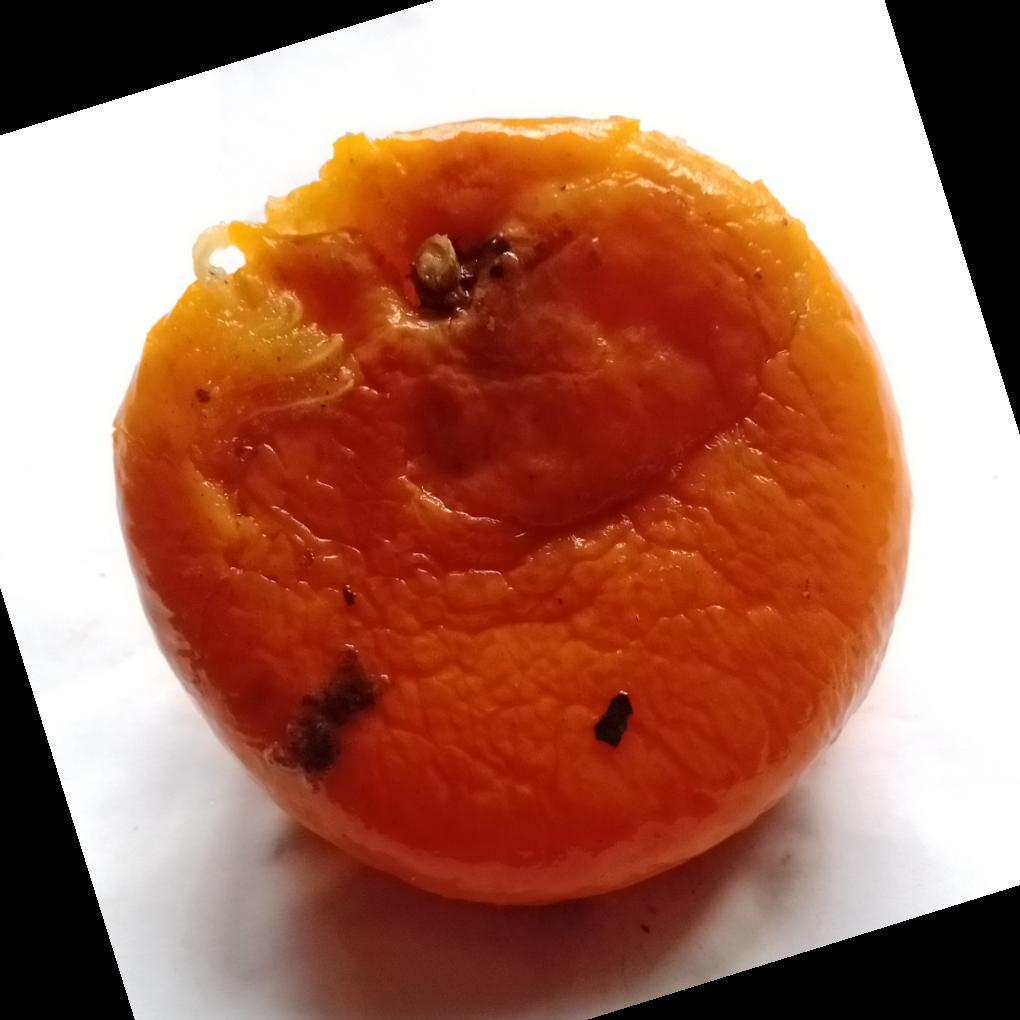FreshOrange: (111, 116, 914, 913)
